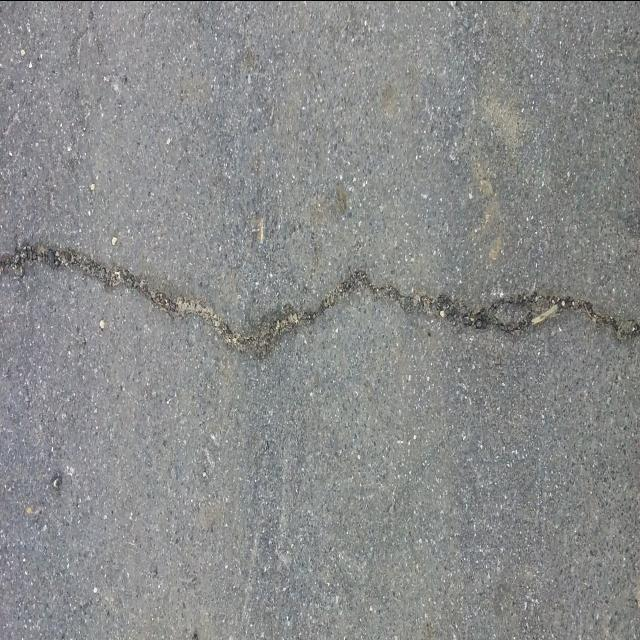Crack: (0, 239, 640, 353), (491, 293, 536, 309)
